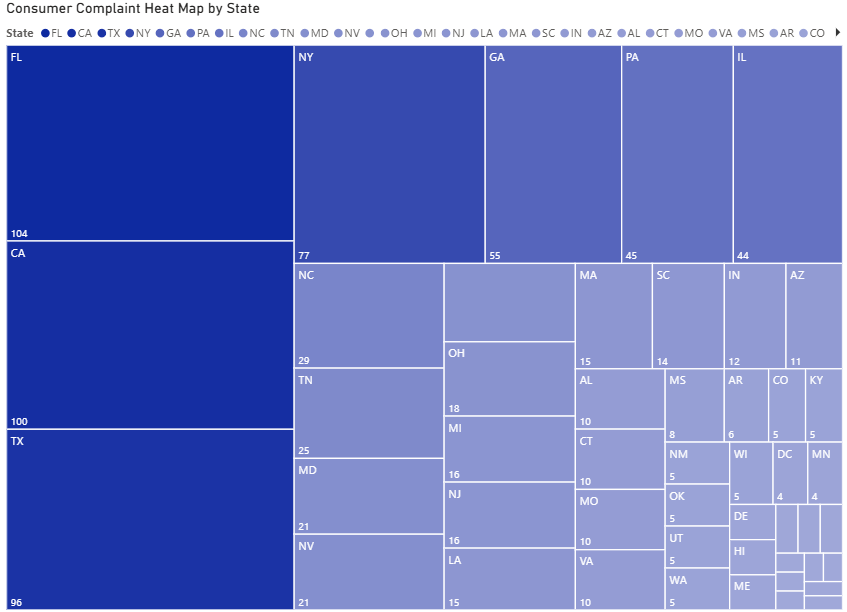

What the dashboard file says about the page in this screenshot:
{"tool":"powerbi","page":{"name":"Page 4","canvas":[1280,720],"ordinal":3},"visuals":[{"type":"treemap","title":"Consumer Complaint Heat Map by State","fields":{"Group":["powerbi_cleaned (2).State"],"Values":["CountNonNull(powerbi_cleaned (2).Complaint ID)"]},"box":[10,0,692.5,597.5],"z":0}]}

Visuals, with their boxes on the page's 1280x720 design canvas (x1, y1, x2, y2). These are canvas units, not pixel positions in the 847x612 screenshot, which may show the page scaled, cropped or inside an application window:
"Consumer Complaint Heat Map by State" treemap: [10,0,702,598]
